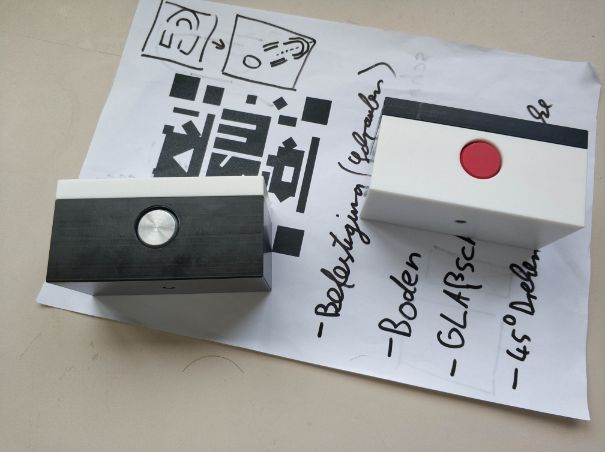black+white+red: (357, 96, 590, 250)
white+black+silver: (43, 174, 276, 298)
